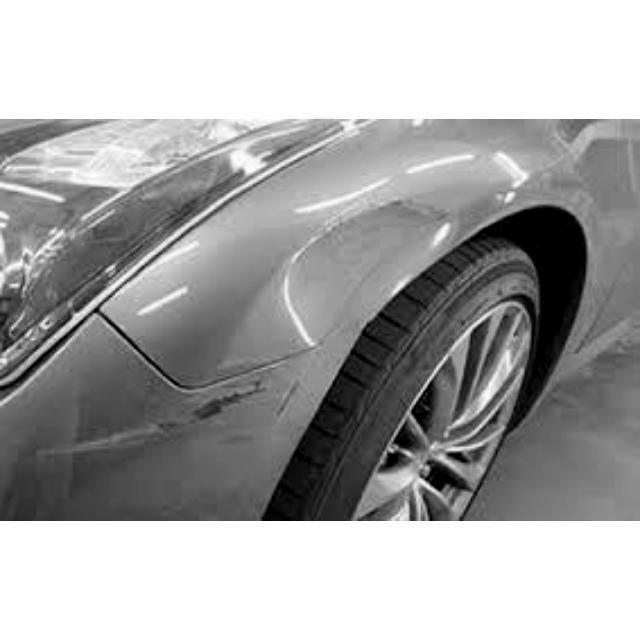fender-dent: (278, 140, 608, 519)
front-bumper-dent: (0, 244, 282, 519)
